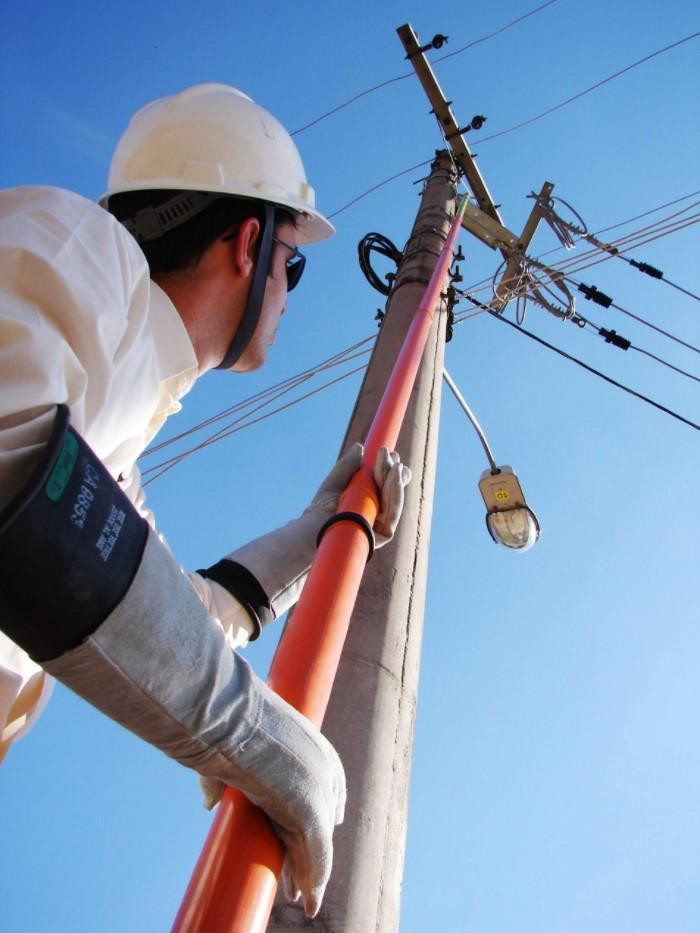Vara_Manobra: (163, 192, 471, 931)
